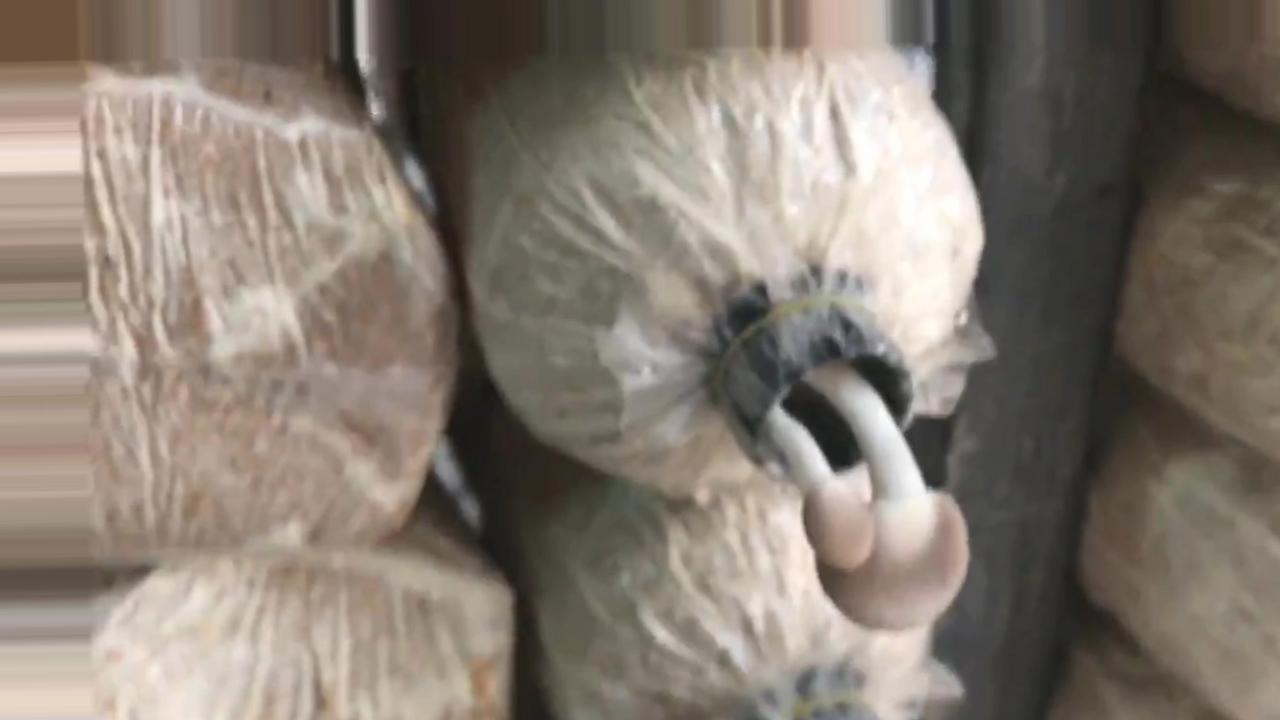nam: (731, 297, 971, 629)
